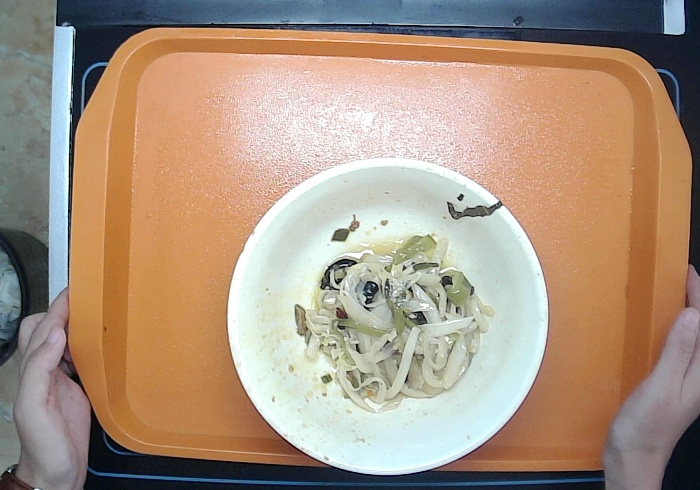ZNLD-Da_Tang_Wan: (225, 157, 550, 480)
